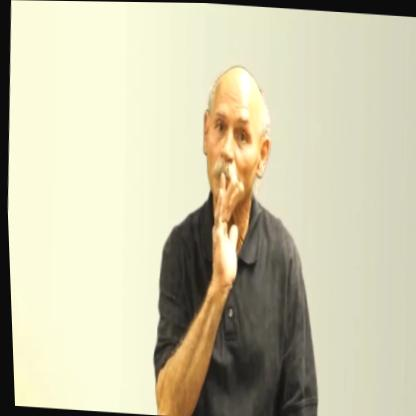Talk: (180, 50, 272, 297)
